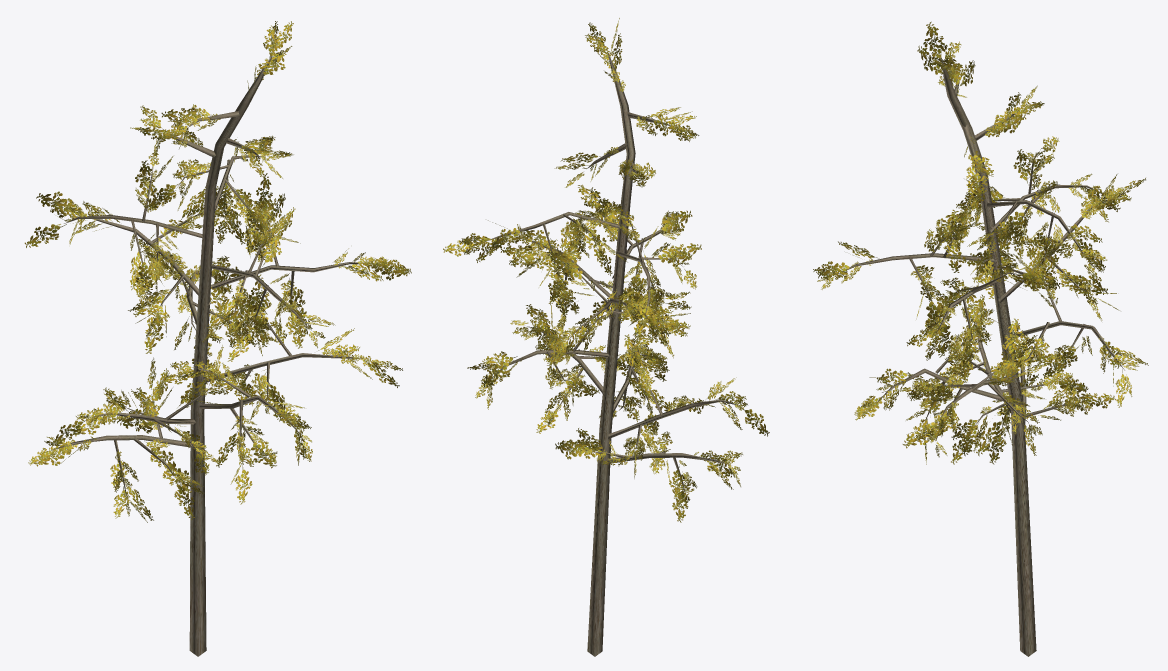
The model's file is ez-birch-lod2.glb.
The picture shows the model from 3 angles, left to right: view 1: azimuth 30°, elevation 25°; view 2: azimuth 150°, elevation 25°; view 3: azimuth 270°, elevation 25°; orthographic projection. The views are drawn at different scales.
Visible parts, largest first — view 1: Leaves_LOD2, Branches_LOD2; view 2: Leaves_LOD2, Branches_LOD2; view 3: Leaves_LOD2, Branches_LOD2.
Part boxes in pixels (x1,y1,x2,y2): Leaves_LOD2: [24, 21, 411, 522]; Branches_LOD2: [53, 56, 367, 656]; Leaves_LOD2: [443, 18, 769, 522]; Branches_LOD2: [485, 51, 738, 656]; Leaves_LOD2: [813, 21, 1148, 464]; Branches_LOD2: [838, 59, 1124, 656].
Bounding box in the file's own units: 37.47 × 68.07 × 32.97.
2 materials, 2 textured.
